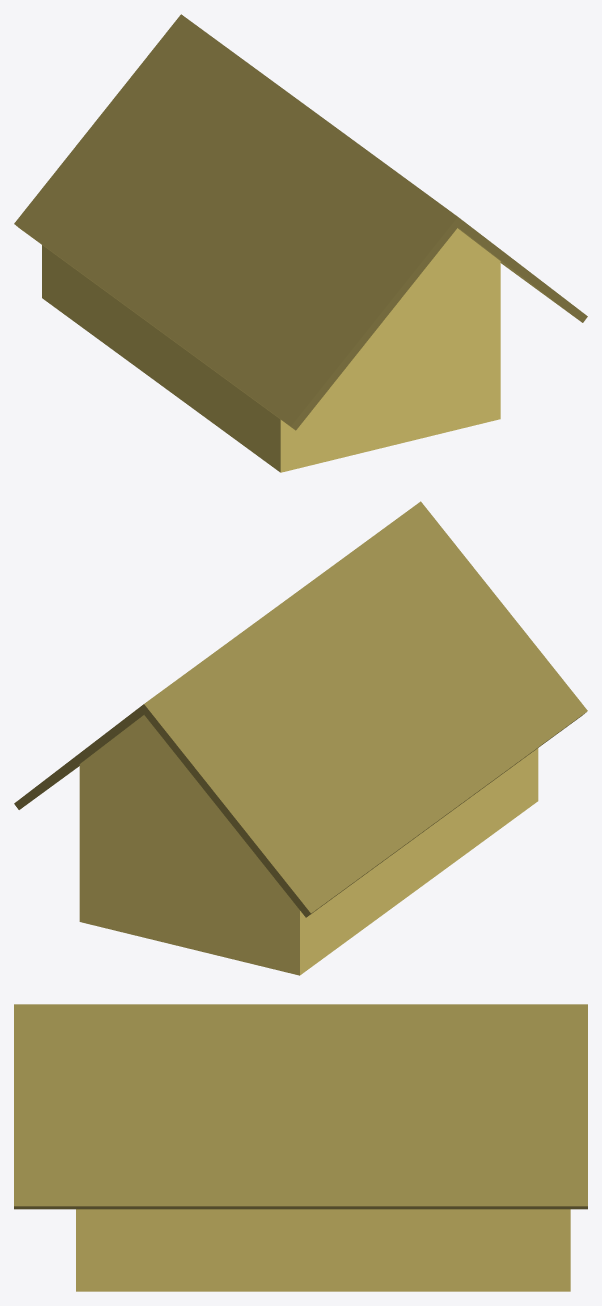
Rendered from result.glb.
3 renders of one model, top to bottom at view 1: azimuth 30°, elevation 25°; view 2: azimuth 150°, elevation 25°; view 3: azimuth 270°, elevation 25°, orthographic. The views are drawn at different scales.
Visible parts, largest first — view 1: f20e887e-e0fc-41e3-8b07-ad8de8582fdd__undefined (×2), 75cf9b94-585f-47d8-8301-41dfdf1d6b1d__undefined; view 2: f20e887e-e0fc-41e3-8b07-ad8de8582fdd__undefined (×2), 75cf9b94-585f-47d8-8301-41dfdf1d6b1d__undefined; view 3: f20e887e-e0fc-41e3-8b07-ad8de8582fdd__undefined, 75cf9b94-585f-47d8-8301-41dfdf1d6b1d__undefined.
Part boxes in pixels (left/top/right/bottom): f20e887e-e0fc-41e3-8b07-ad8de8582fdd__undefined (×2): left=14, top=14, right=587, bottom=430; 75cf9b94-585f-47d8-8301-41dfdf1d6b1d__undefined: left=42, top=228, right=500, bottom=472; f20e887e-e0fc-41e3-8b07-ad8de8582fdd__undefined (×2): left=14, top=501, right=587, bottom=917; 75cf9b94-585f-47d8-8301-41dfdf1d6b1d__undefined: left=79, top=715, right=538, bottom=975; f20e887e-e0fc-41e3-8b07-ad8de8582fdd__undefined: left=14, top=1004, right=587, bottom=1209; 75cf9b94-585f-47d8-8301-41dfdf1d6b1d__undefined: left=76, top=1209, right=570, bottom=1291.
Bounding box in the file's own units: 1017 × 791 × 1641.
